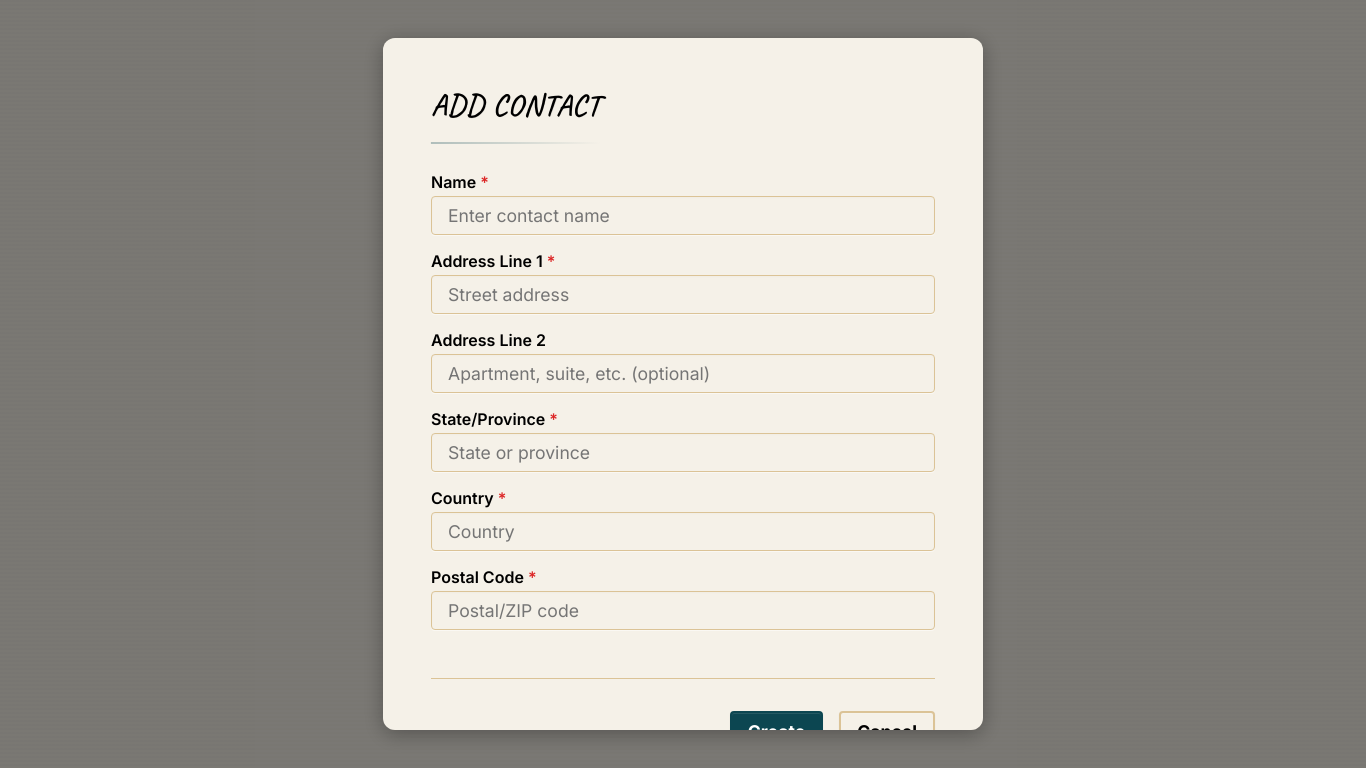
it: ContactModal › shows error when accountId or accountUserId is missing
Type "Test" into the field with id "name" at x=683, y=216, box top-left (431, 196), bottom-right (935, 235)
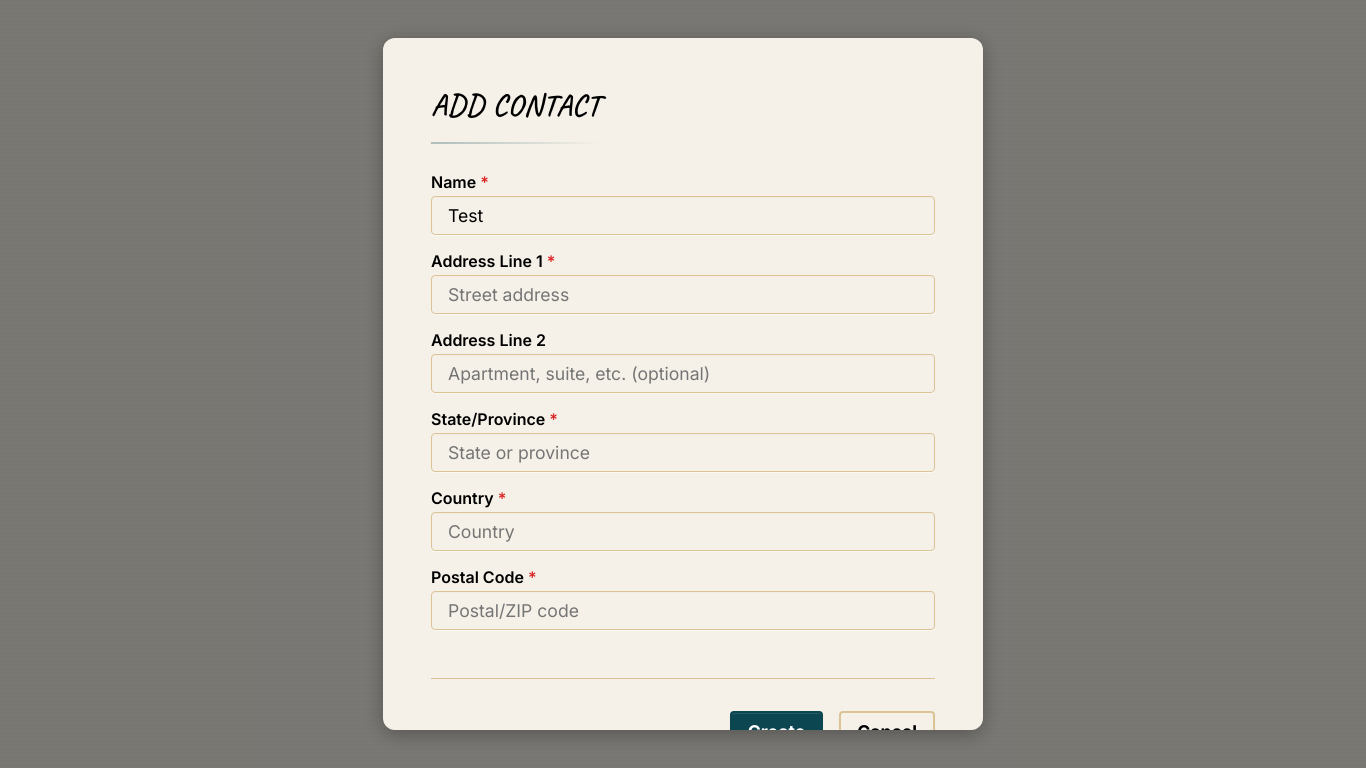
Type "123 St" into the field labelled "Address Line 1 *" at x=683, y=295, box top-left (431, 275), bottom-right (935, 314)
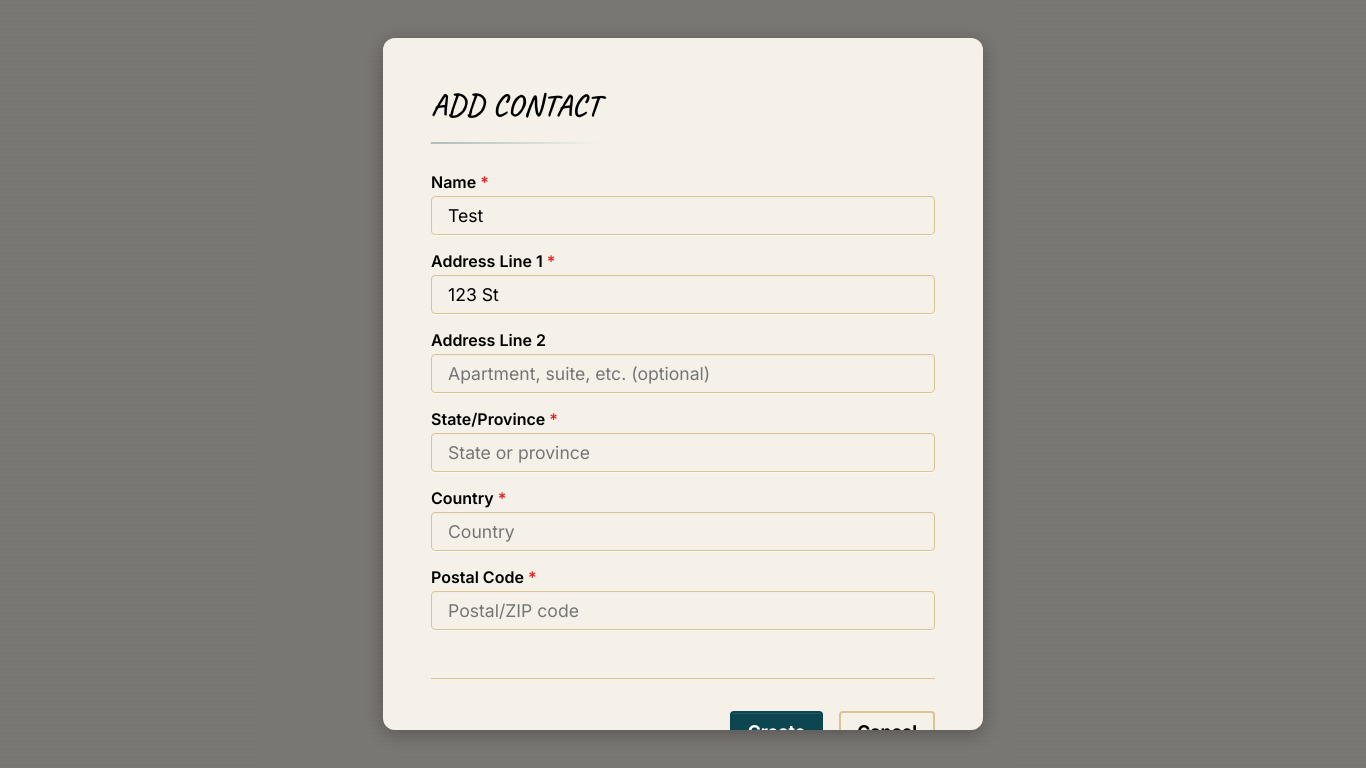
Type "CA" into the field with id "state_province" at x=683, y=453, box top-left (431, 433), bottom-right (935, 472)
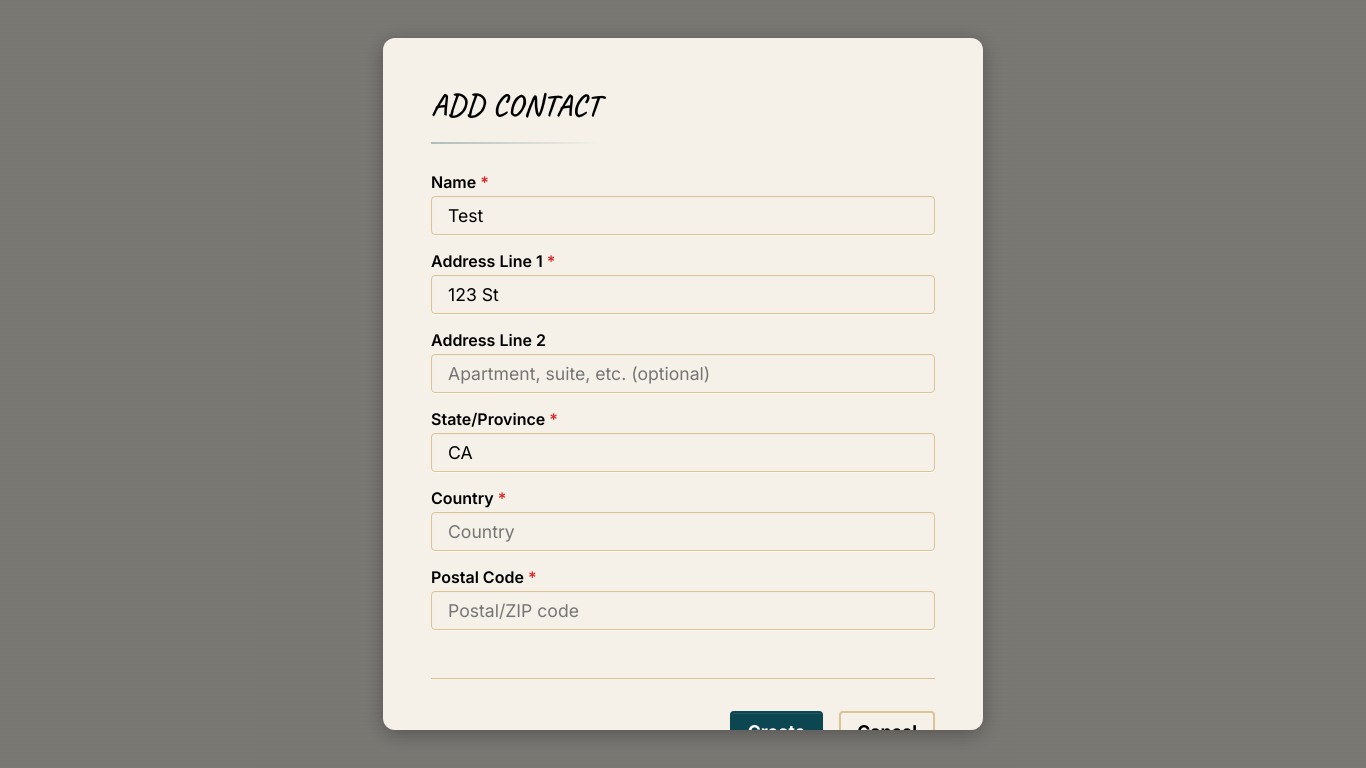
Type "US" into the field with id "country" at x=683, y=532, box top-left (431, 512), bottom-right (935, 551)
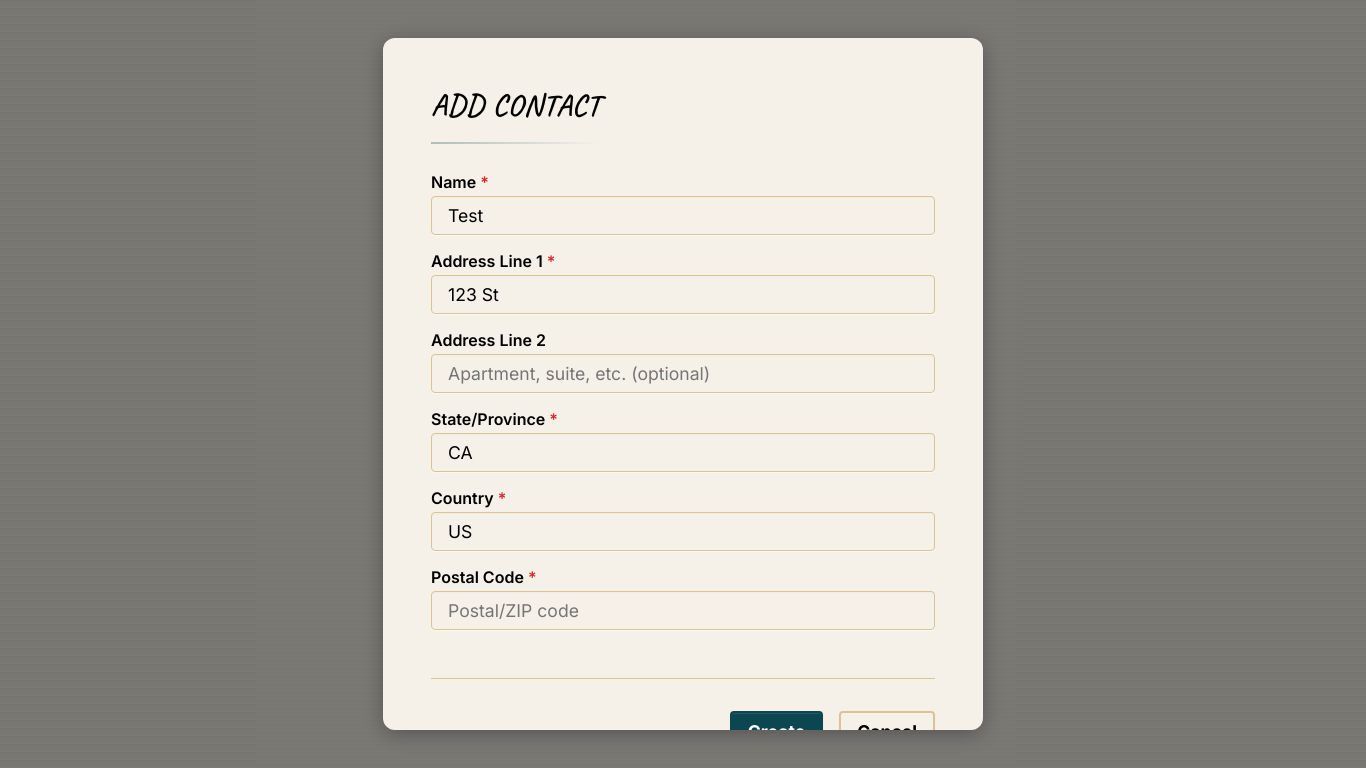
Type "90210" into the field labelled "Postal Code *" at x=683, y=611, box top-left (431, 591), bottom-right (935, 630)
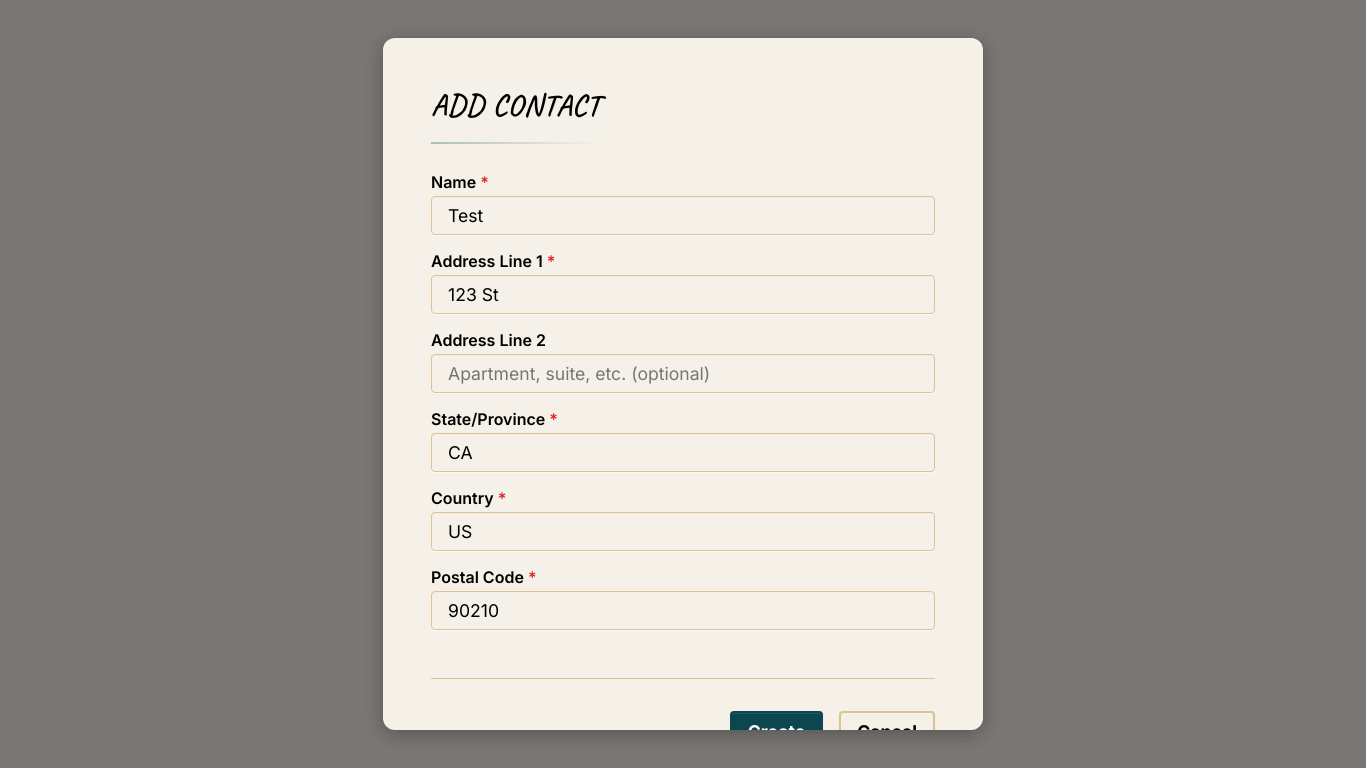
Submit the form, box top-left (431, 172), bottom-right (935, 752)
(page scrolled)
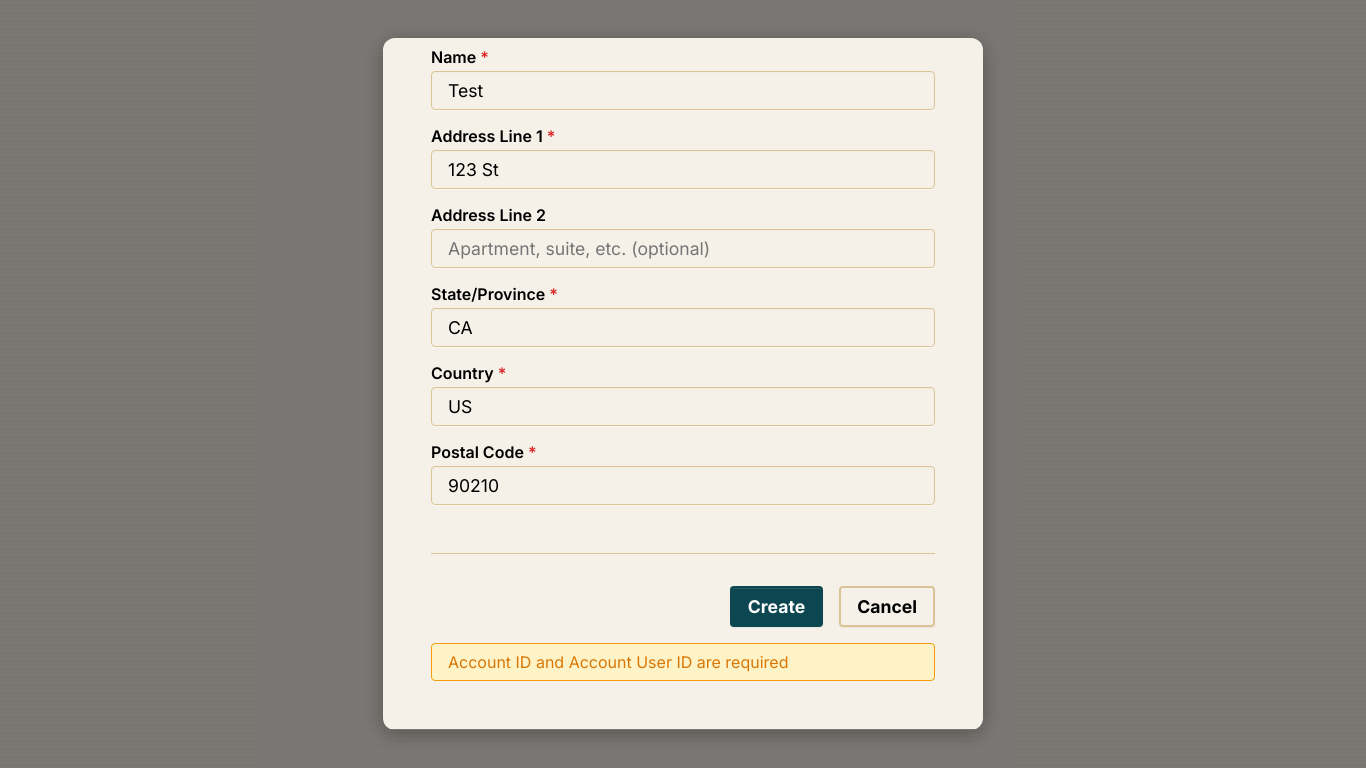
Check: the element with class "error" is shown, box top-left (431, 643), bottom-right (935, 681)
